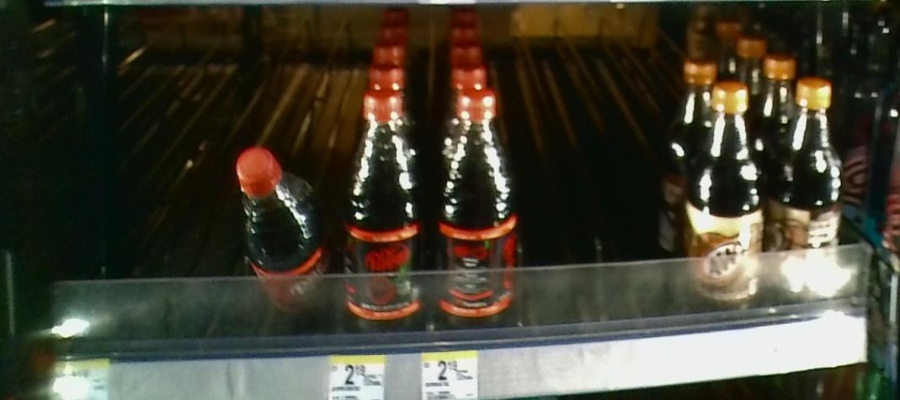bottle: (434, 91, 520, 344), (342, 90, 423, 338), (236, 143, 331, 346), (687, 82, 769, 311), (771, 76, 848, 314)
